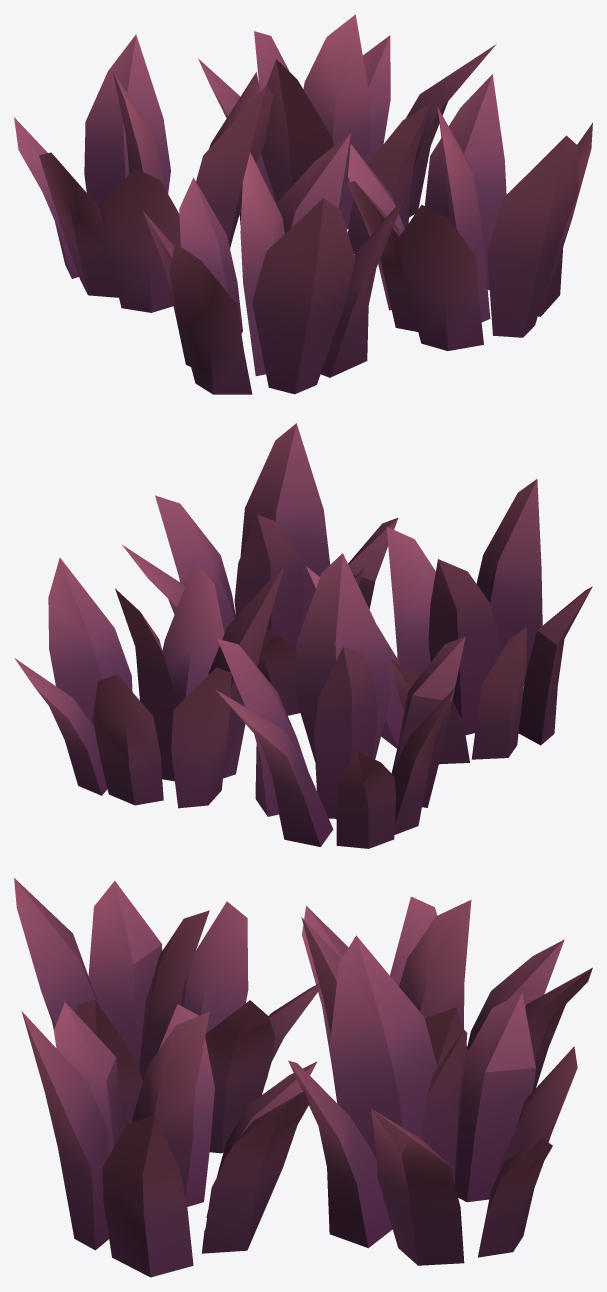
The model's file is grass_purple_group.glb.
3 views of the same model, one above another, from view 1: azimuth 30°, elevation 25°; view 2: azimuth 150°, elevation 25°; view 3: azimuth 270°, elevation 25° (orthographic). The views are drawn at different scales.
Parts seen in each view (by area): view 1: grass_purple_group; view 2: grass_purple_group; view 3: grass_purple_group.
Part boxes in pixels (bbox=[...]): grass_purple_group: bbox=[14, 14, 592, 394]; grass_purple_group: bbox=[14, 423, 592, 848]; grass_purple_group: bbox=[14, 878, 592, 1277].
Bounding box in the file's own units: 1.1 × 0.5149 × 1.13.
Materials: 1 (1 with a texture image).
